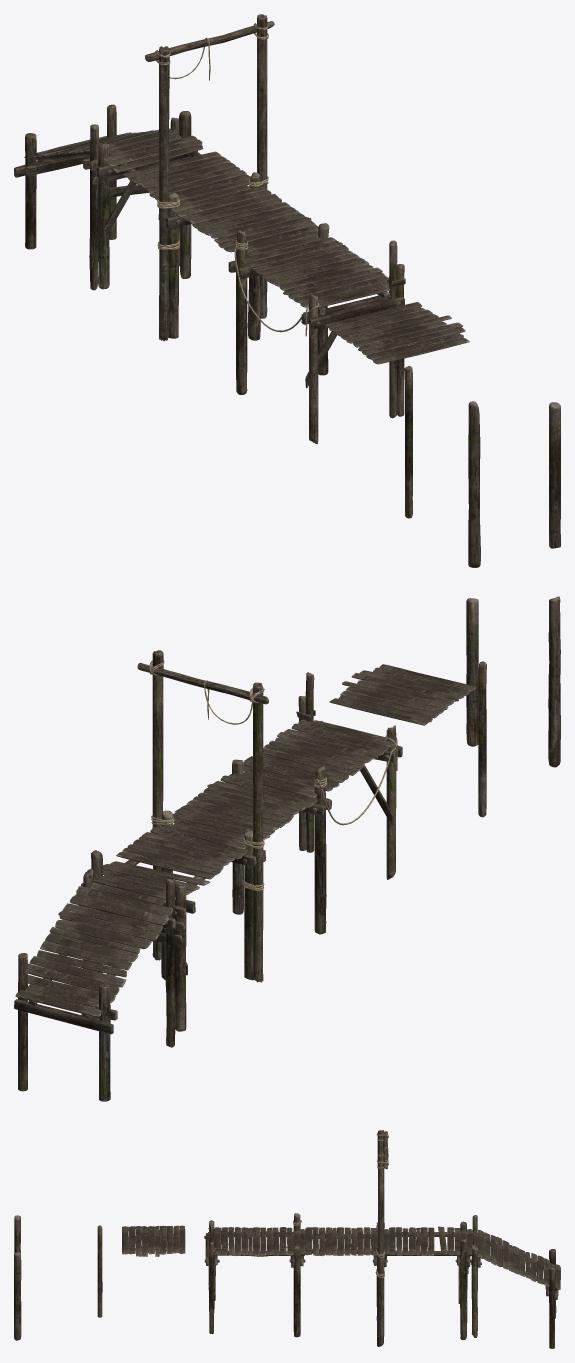
The model's file is modular_wooden_pier.glb.
The picture shows the model from 3 angles, top to bottom: view 1: azimuth 30°, elevation 25°; view 2: azimuth 150°, elevation 25°; view 3: azimuth 270°, elevation 25°; orthographic projection. The views are drawn at different scales.
Parts seen in each view (by area): view 1: modular_wooden_pier_planks, modular_wooden_pier_section_01, modular_wooden_pier_poles; view 2: modular_wooden_pier_planks, modular_wooden_pier_section_01, modular_wooden_pier_poles; view 3: modular_wooden_pier_planks, modular_wooden_pier_section_01, modular_wooden_pier_poles.
Part boxes in pixels (<box>): modular_wooden_pier_planks: <box>14,23,469,388</box>; modular_wooden_pier_section_01: <box>25,14,404,444</box>; modular_wooden_pier_poles: <box>404,366,560,567</box>; modular_wooden_pier_planks: <box>14,660,476,1034</box>; modular_wooden_pier_section_01: <box>18,650,396,1101</box>; modular_wooden_pier_poles: <box>466,596,560,817</box>; modular_wooden_pier_planks: <box>122,1132,560,1303</box>; modular_wooden_pier_section_01: <box>204,1130,558,1348</box>; modular_wooden_pier_poles: <box>14,1215,102,1340</box>.
Size of the model in its own units: 3.1 by 7.51 by 19.03.
Materials: 2 (2 with a texture image).
